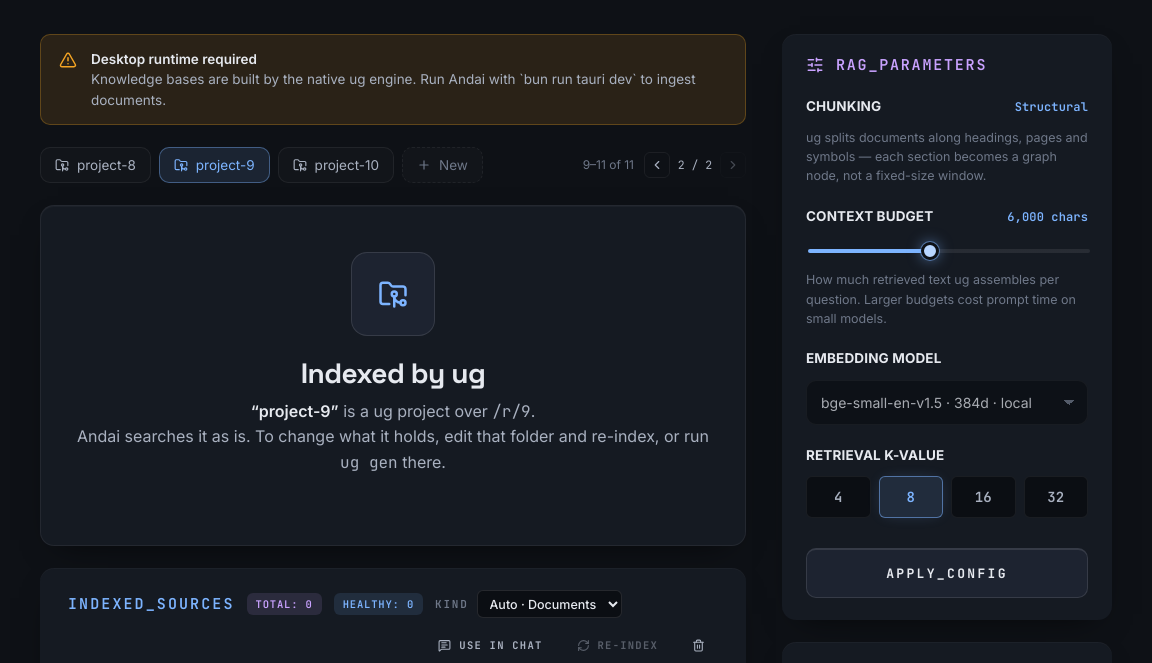
Test: long lists page › pages the knowledge base tabs, opening on the selected one
Expected: the text "9–11 of 11" is shown, [583,156,634,174]
Expected: the button "project-0" is not shown
Click the button named "Previous page".
click(657, 165)  # box [644,152,670,178]
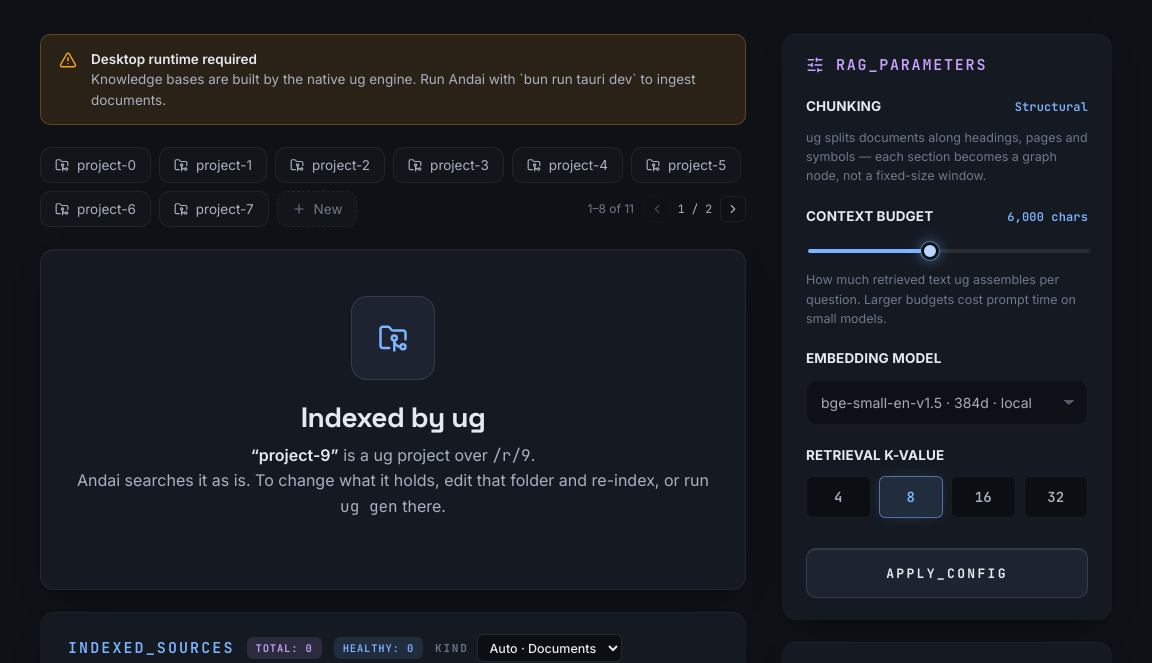
Now the button "project-0" is shown, box [40,147,151,183]
